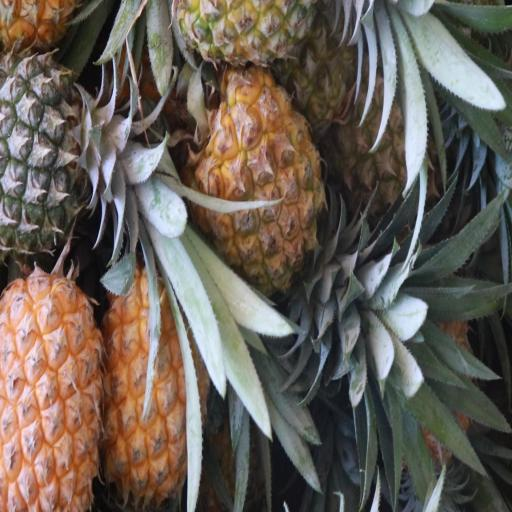------------------------------: (328, 54, 430, 219)
Pineapple - v8 v1: (190, 69, 316, 283), (0, 274, 102, 509), (104, 270, 202, 504)
